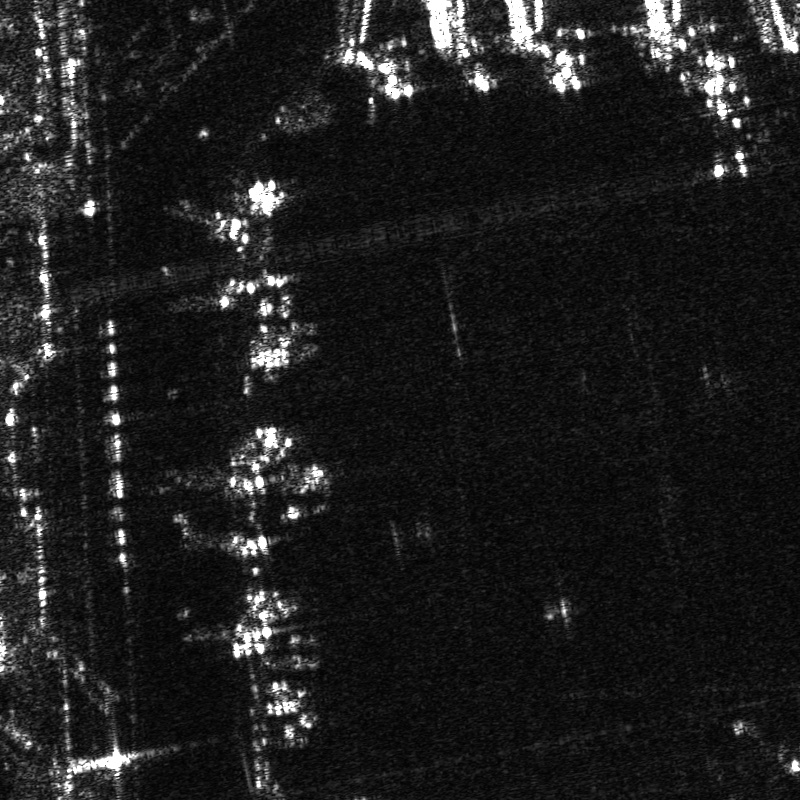A320/321: (660, 70, 784, 186)
